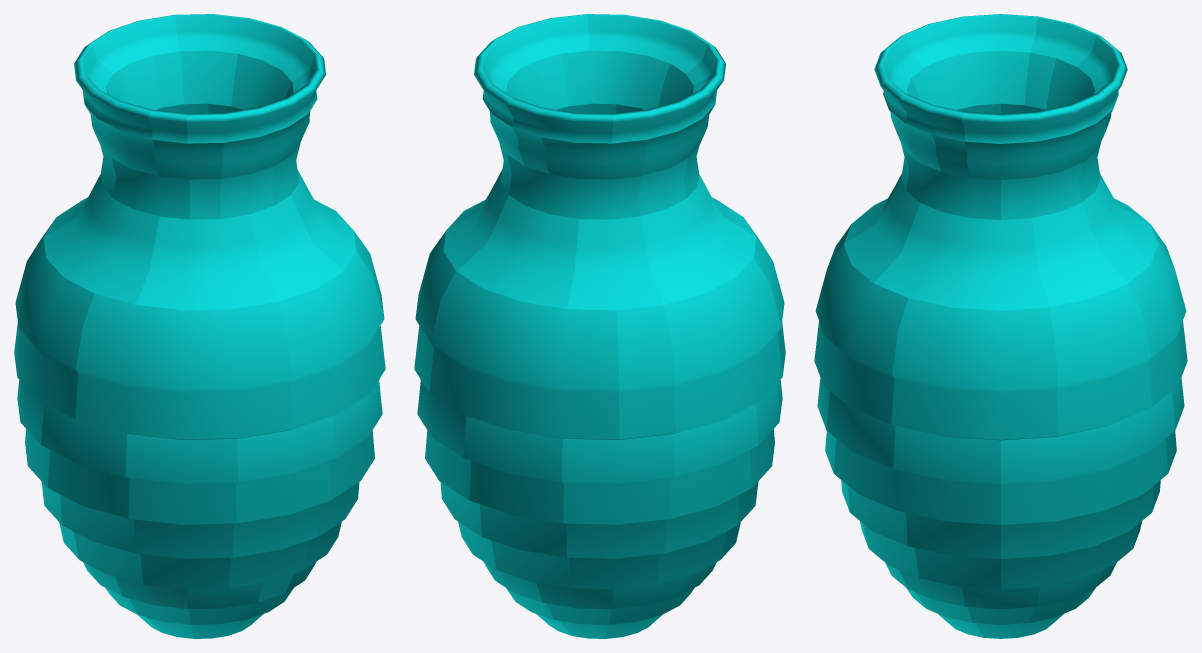
The model's file is Pot_Combined_lp.fbx.
3 renders of one model, left to right at view 1: azimuth 30°, elevation 25°; view 2: azimuth 150°, elevation 25°; view 3: azimuth 270°, elevation 25°, orthographic.
Visible parts, largest first — view 1: PotCombined; view 2: PotCombined; view 3: PotCombined.
Part boxes in pixels (<box>): PotCombined: <box>14,14,385,638</box>; PotCombined: <box>414,14,785,638</box>; PotCombined: <box>814,14,1187,638</box>.
Bounding box in the file's own units: 0.4183 × 0.6808 × 0.4183.
